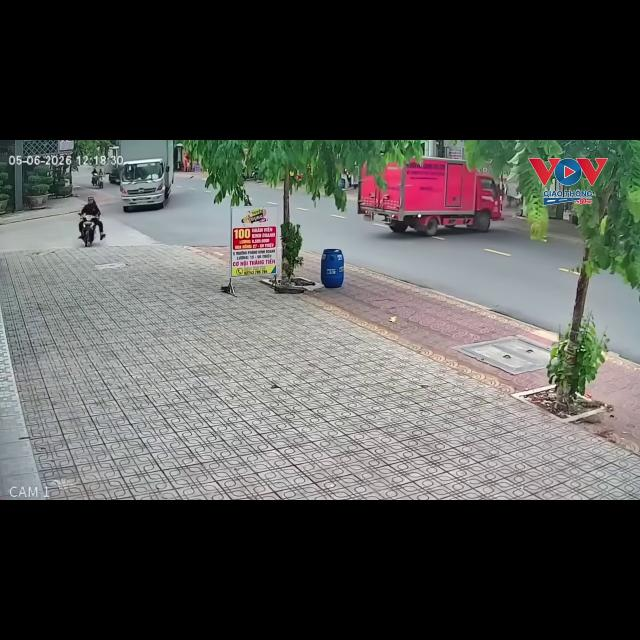motorcycle: (80, 214, 98, 246), (92, 174, 103, 188)
truck: (358, 157, 502, 236), (119, 140, 174, 211), (104, 146, 122, 183)
